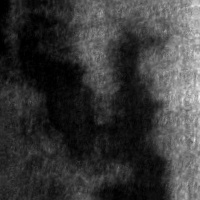patches: (13, 9, 95, 153), (97, 30, 162, 199)
